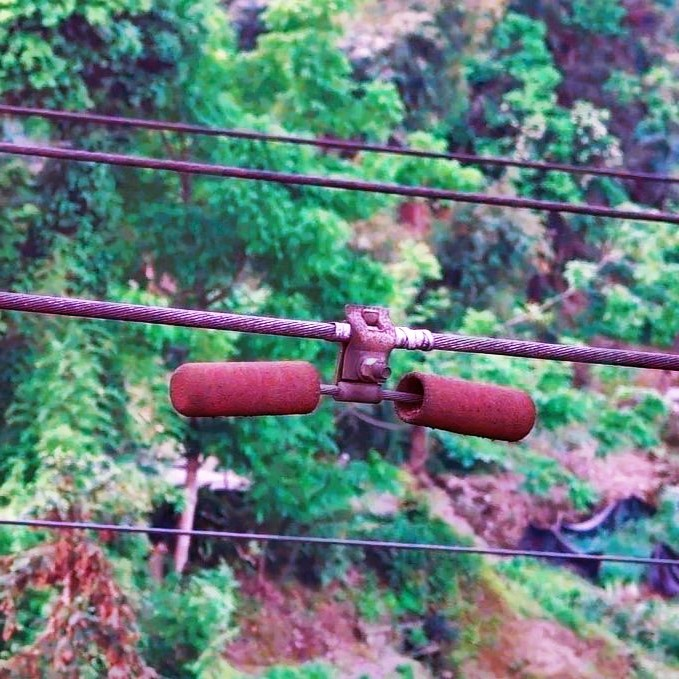Shockproof hammer: (156, 300, 543, 444)
